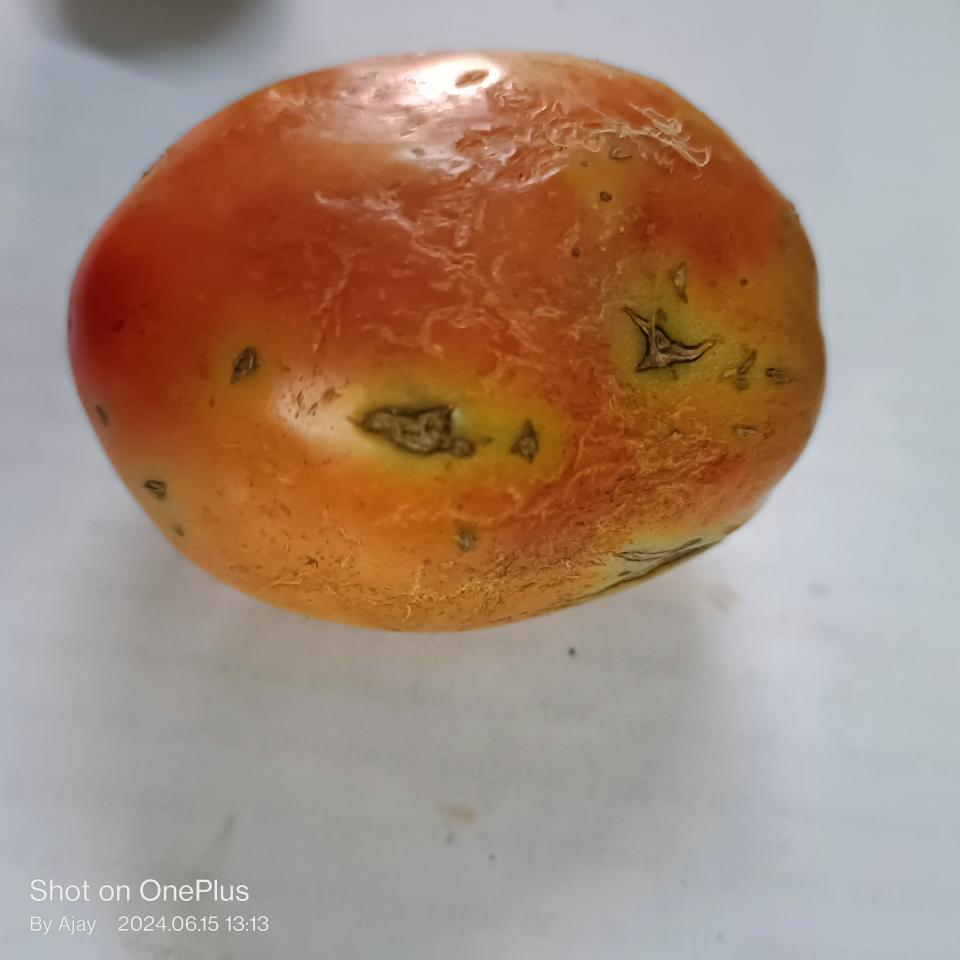Bacterial_Spot: (622, 269, 762, 396), (362, 384, 543, 465), (226, 336, 280, 387), (449, 513, 491, 561), (134, 464, 177, 502)
